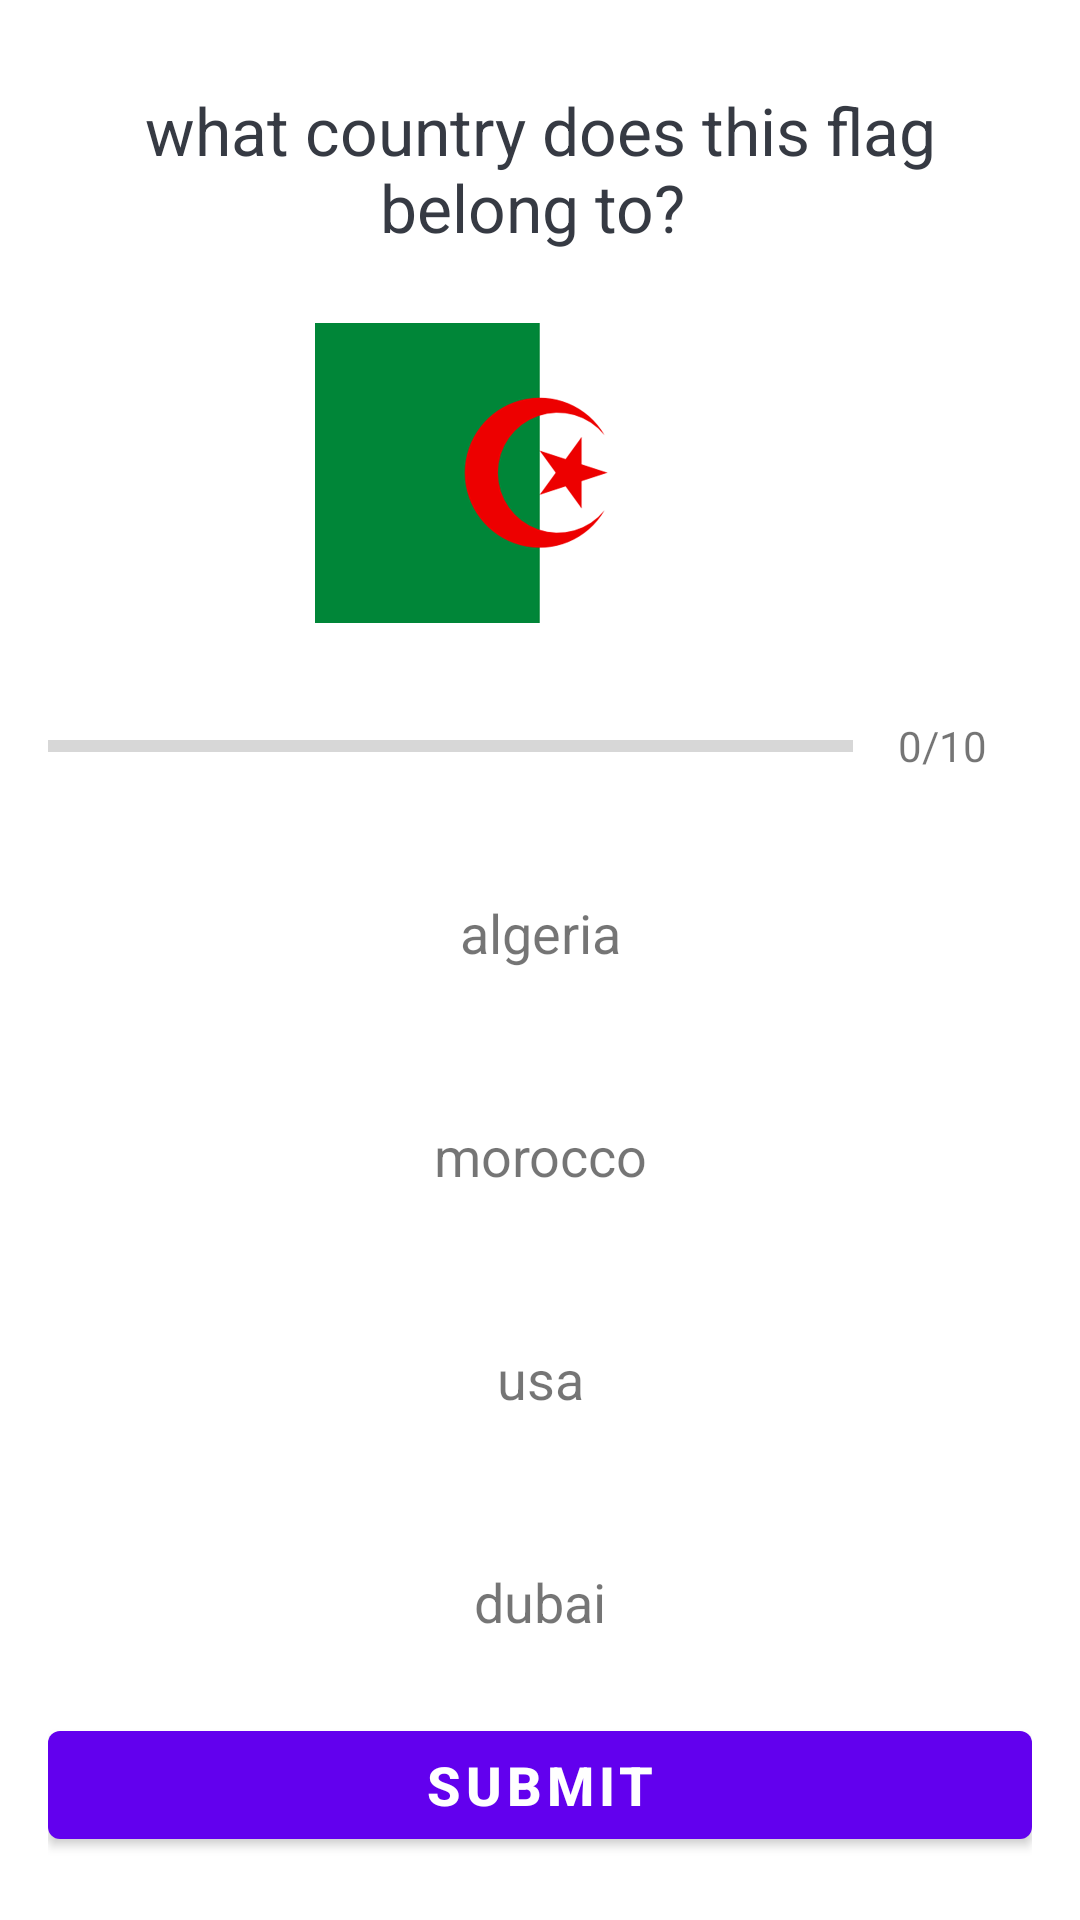

Icon click points for this 1080×1920 phone screenshot, format (x=x, y=y):
algeria: (x=461, y=473)
